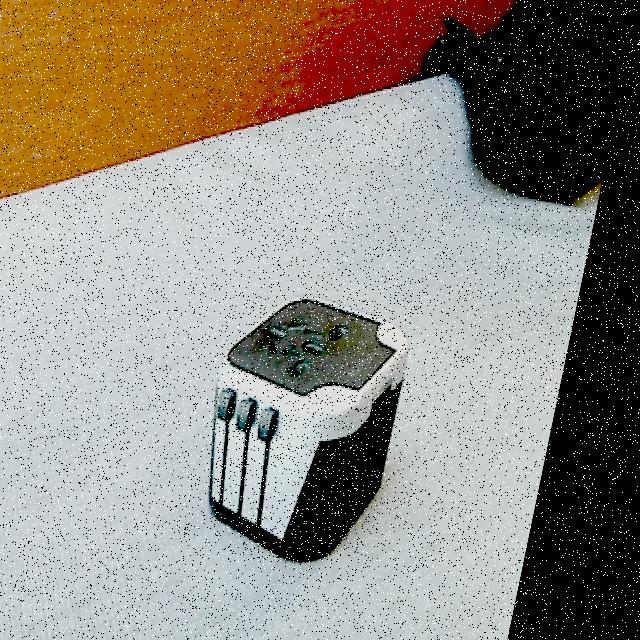adapter: (201, 294, 435, 562)
